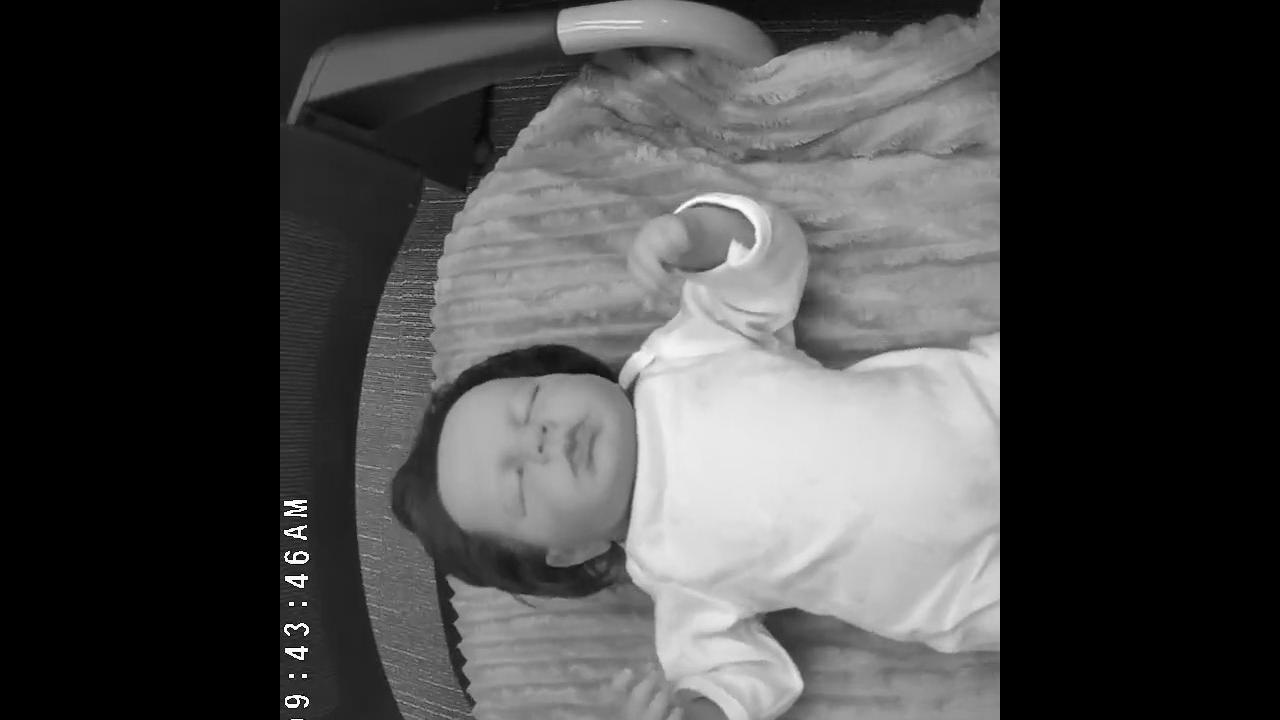hand: (626, 209, 698, 310)
